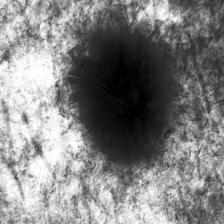Benign Marking or Mole: (76, 29, 173, 161)
